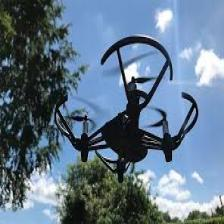drone: (55, 34, 199, 199)
